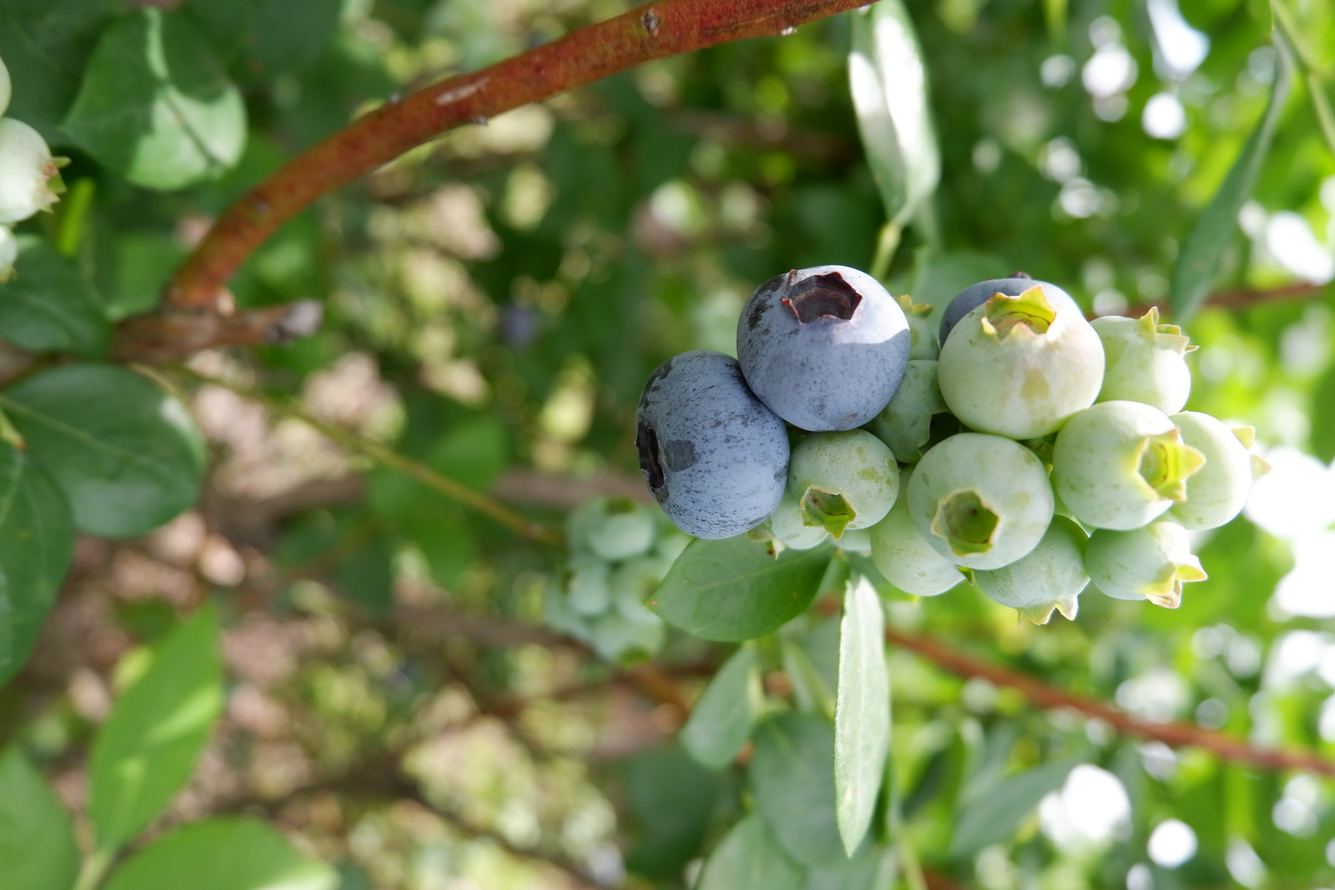Immature: (944, 282, 1105, 435), (913, 438, 1055, 567), (1058, 406, 1193, 527), (978, 518, 1090, 621), (787, 433, 898, 530), (1094, 308, 1192, 415), (873, 486, 964, 592), (1171, 416, 1254, 529), (1087, 524, 1204, 604), (872, 359, 960, 461), (747, 486, 829, 561), (898, 293, 941, 361)
Mature: (637, 353, 789, 535), (743, 269, 908, 430), (940, 276, 1048, 341)
